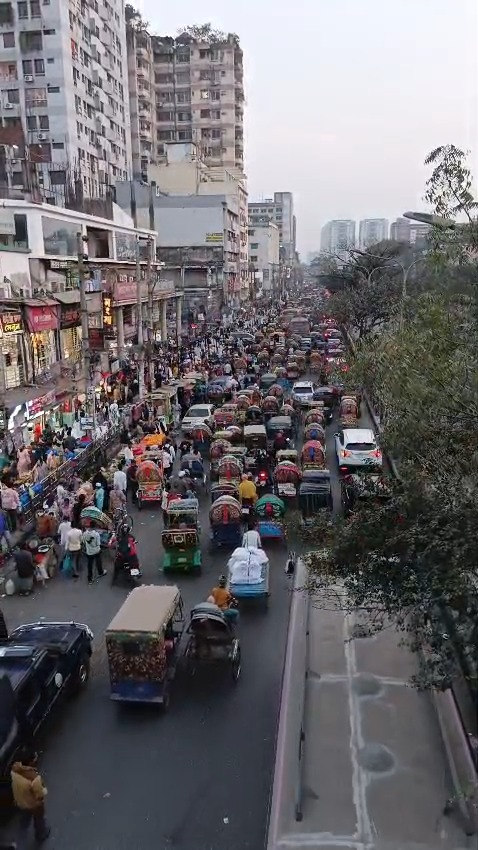Bikes: (108, 522, 150, 580), (257, 452, 272, 491)
Bus: (283, 305, 299, 334), (291, 316, 312, 338)
Leguna: (269, 331, 287, 354)
auto-ricksaw: (69, 416, 308, 676), (248, 348, 316, 379)
cng: (261, 372, 279, 388)
private car: (3, 624, 92, 756), (338, 425, 380, 476), (323, 356, 359, 395), (171, 404, 218, 428), (292, 382, 318, 411)
